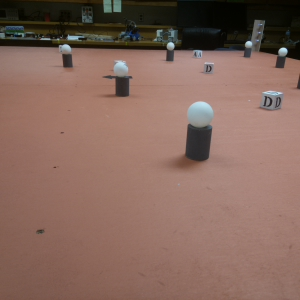blockA: (193, 49, 204, 58)
blockD: (260, 90, 283, 112), (203, 62, 214, 72)
corner: (252, 19, 265, 52)
obstacle: (186, 101, 214, 161), (113, 63, 132, 98), (61, 44, 74, 70), (274, 45, 288, 69), (164, 41, 176, 62), (244, 41, 252, 59)
start: (102, 74, 134, 80)
